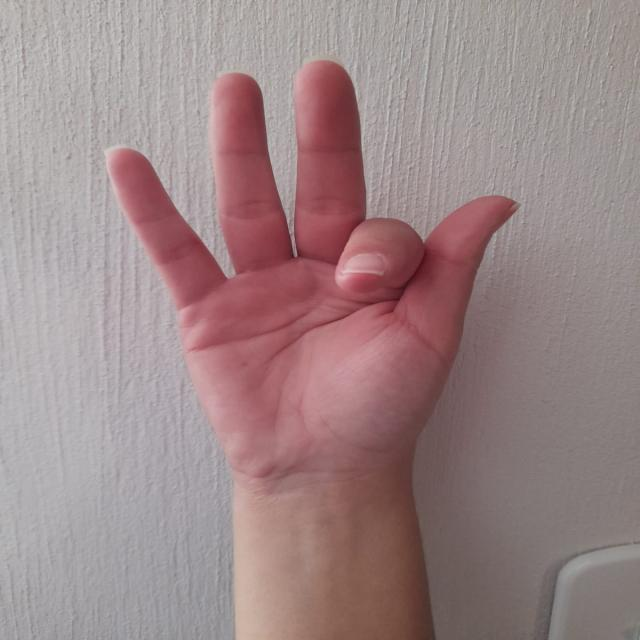F: (93, 40, 539, 488)
